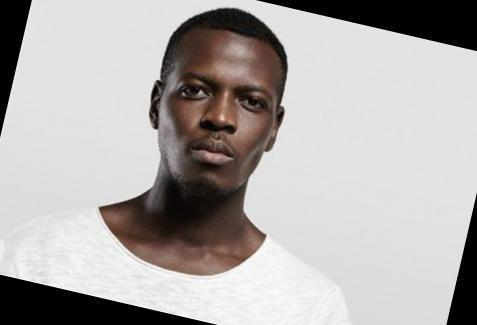Sober: (162, 36, 278, 176)
